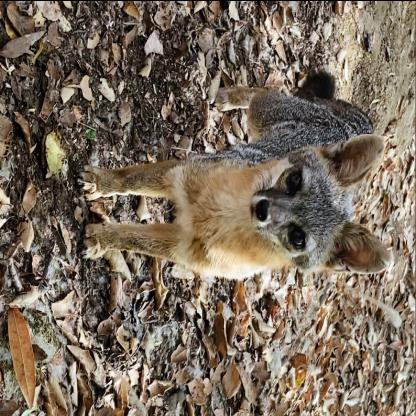zorro: (75, 82, 397, 284)
